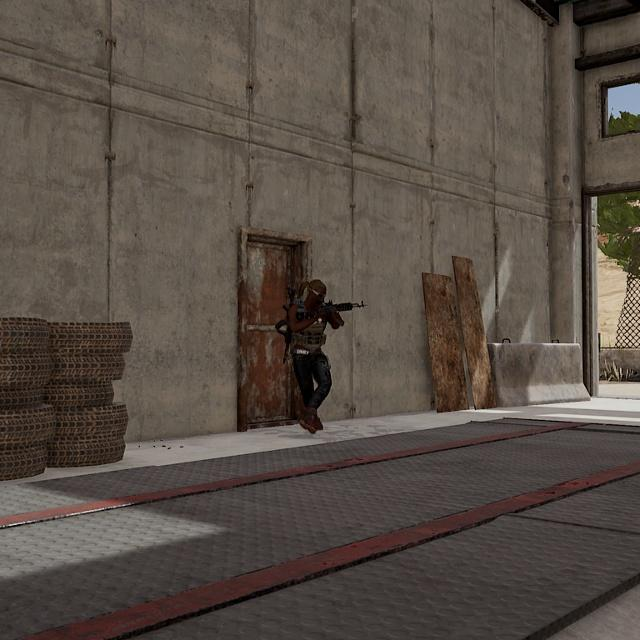head: (304, 277, 330, 312)
people: (278, 273, 347, 440)
